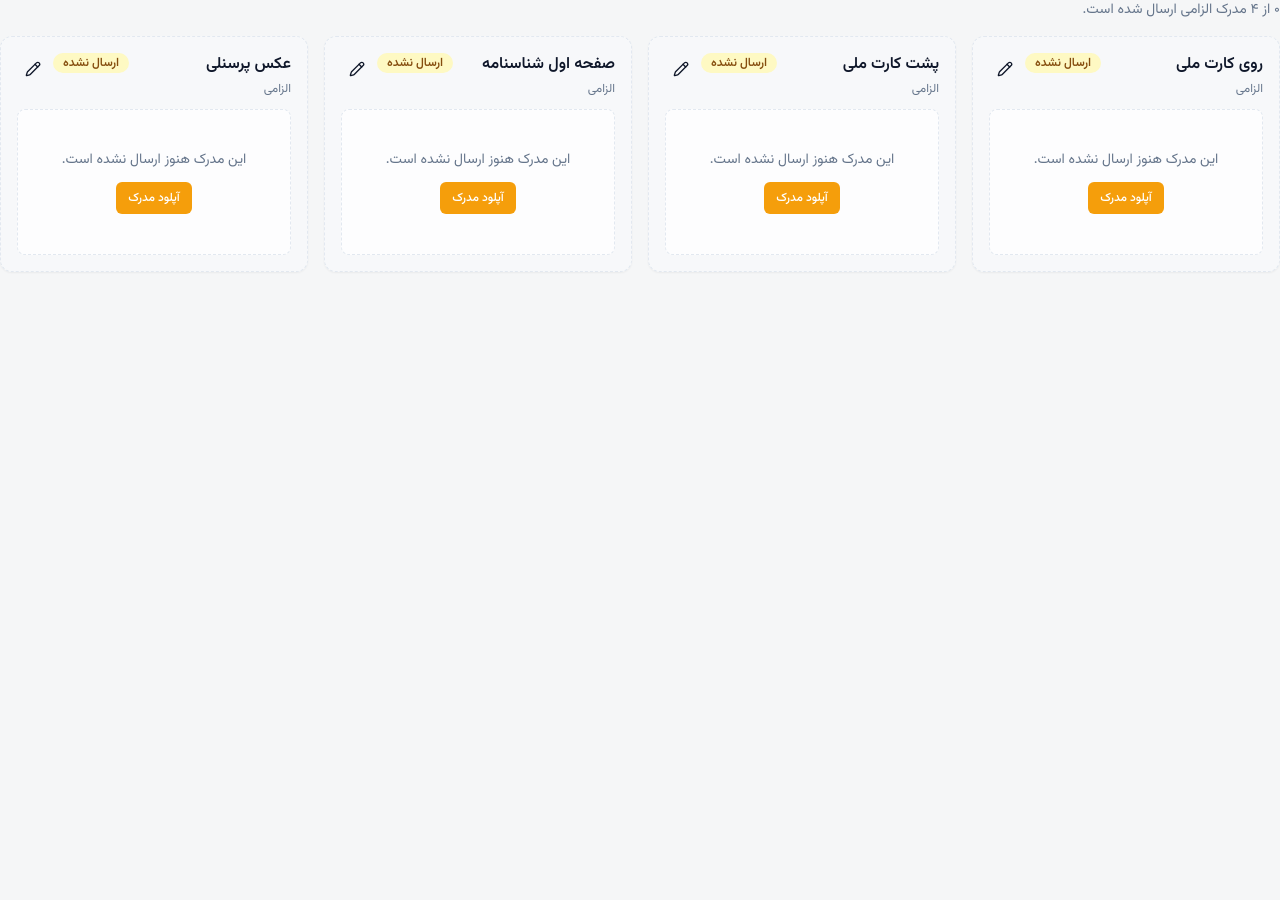
Scenario: KYC review › lets a reviewer upload a missing document for the customer
Click the button named "عملیات روی کارت ملی": (1005, 69) [989,53,1021,85]
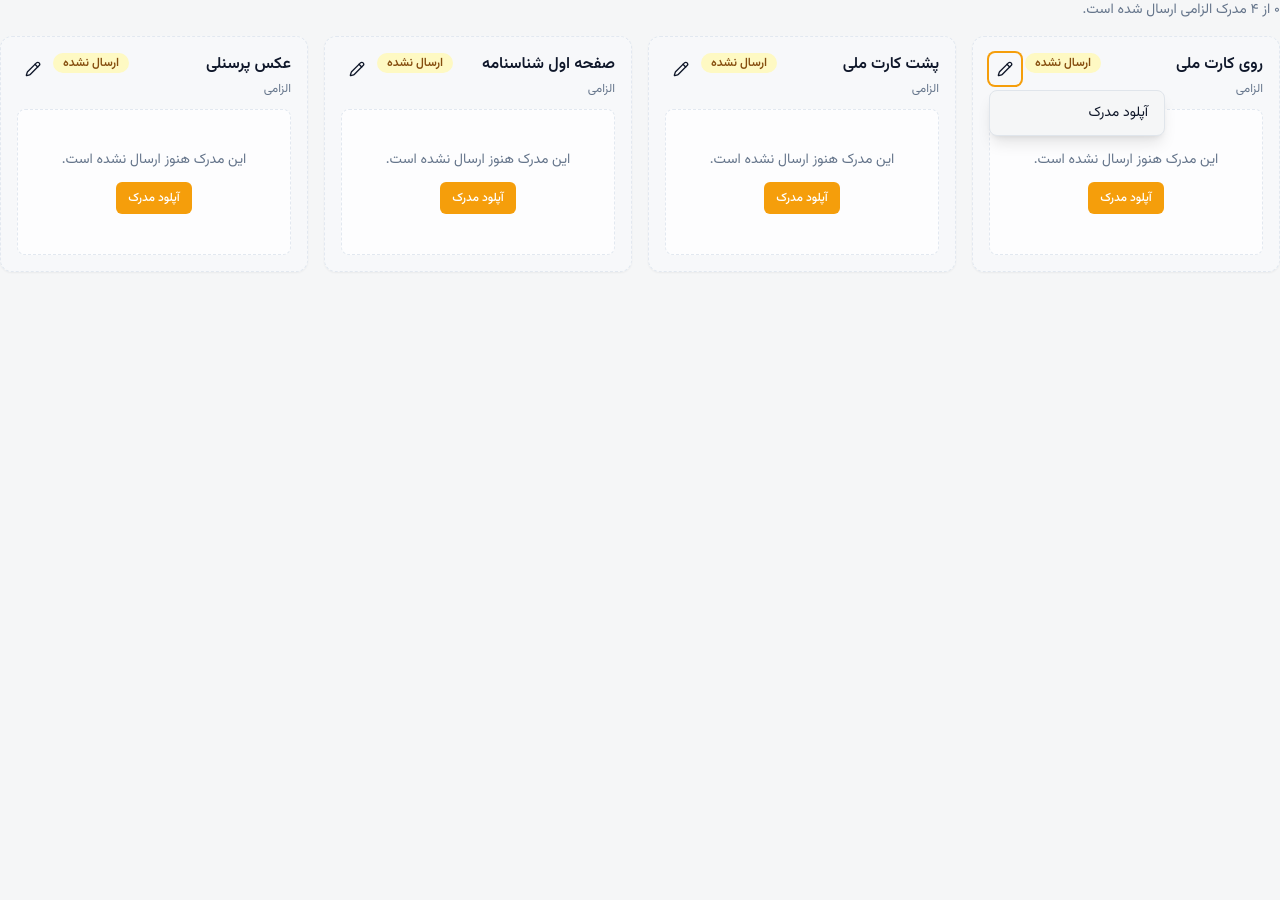
Click the menu item "آپلود مدرک": (1077, 113) [994,95,1160,131]
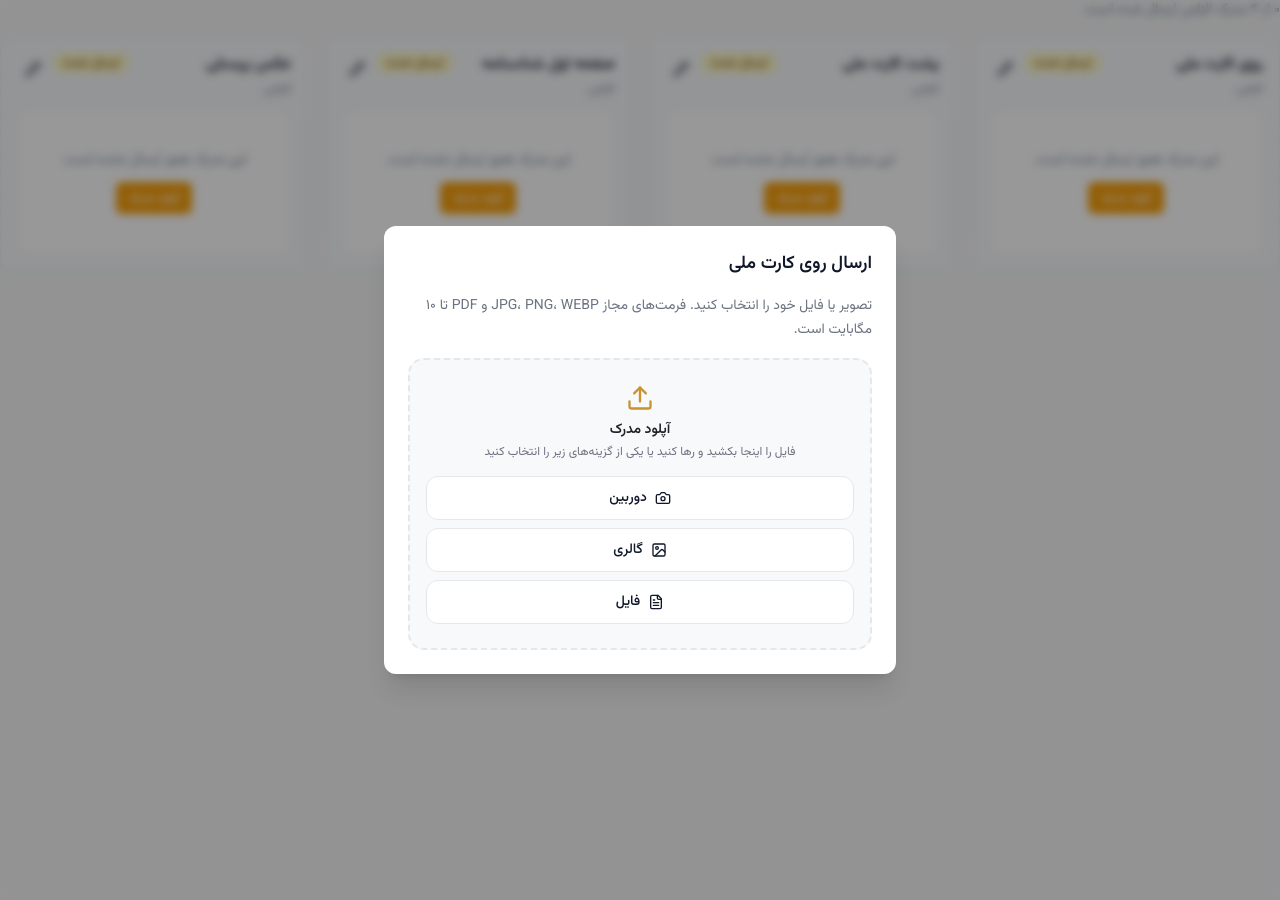
Check: the heading "ارسال روی کارت ملی" is shown, box [729,250,872,278]
Check: the button "دوربین" is shown, box [426,476,854,520]
Check: the button "گالری" is shown, box [426,528,854,572]
